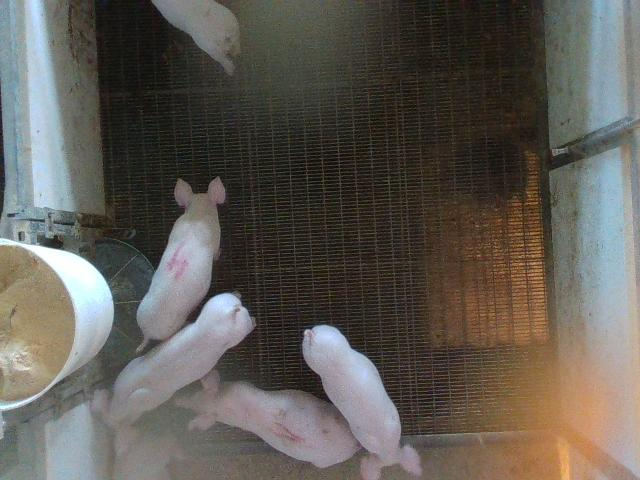pig-1: (175, 369, 361, 468)
pig-4: (138, 178, 225, 352)
